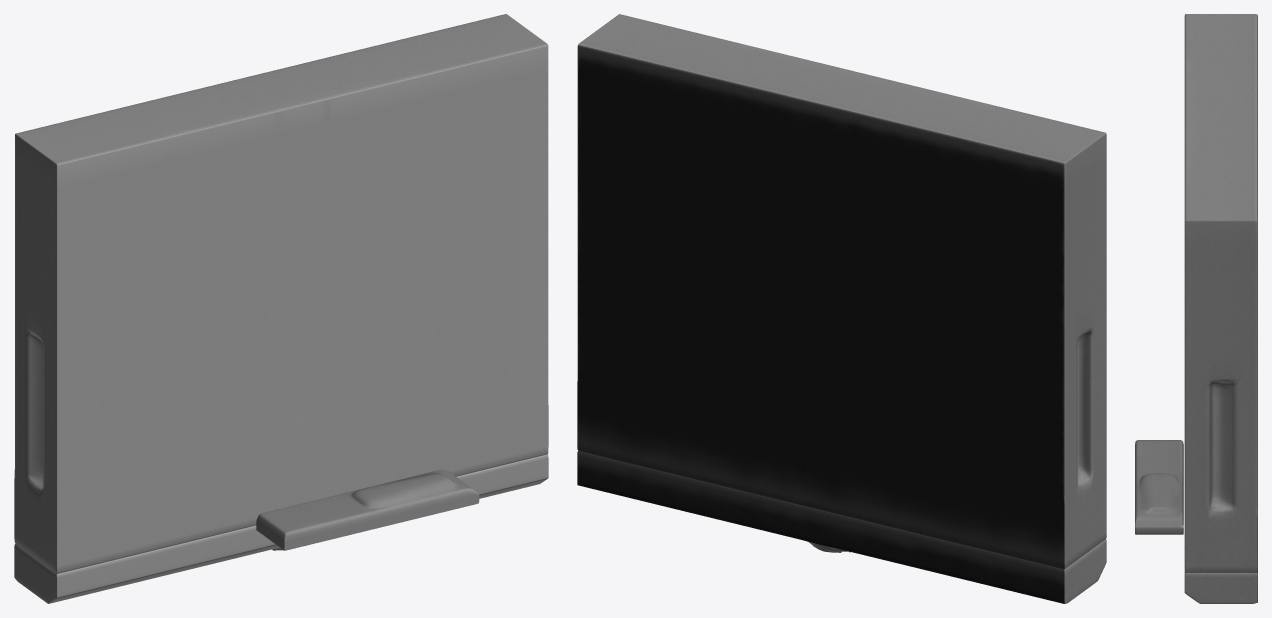
File: dvr.glb
The picture shows the model from 3 angles, left to right: view 1: azimuth 30°, elevation 25°; view 2: azimuth 150°, elevation 25°; view 3: azimuth 270°, elevation 25°; orthographic projection. The views are drawn at different scales.
Parts seen in each view (by area): view 1: 10111_DVR TiVo Player_v2_Iteration1-2; view 2: 10111_DVR TiVo Player_v2_Iteration1-2; view 3: 10111_DVR TiVo Player_v2_Iteration1-2.
Part boxes in pixels (left/top/right/bottom): 10111_DVR TiVo Player_v2_Iteration1-2: left=14, top=14, right=548, bottom=603; 10111_DVR TiVo Player_v2_Iteration1-2: left=577, top=14, right=1106, bottom=603; 10111_DVR TiVo Player_v2_Iteration1-2: left=1135, top=14, right=1257, bottom=603.
Size of the model in its own units: 51.22 by 45.19 by 12.89.
1 material, 1 textured.
